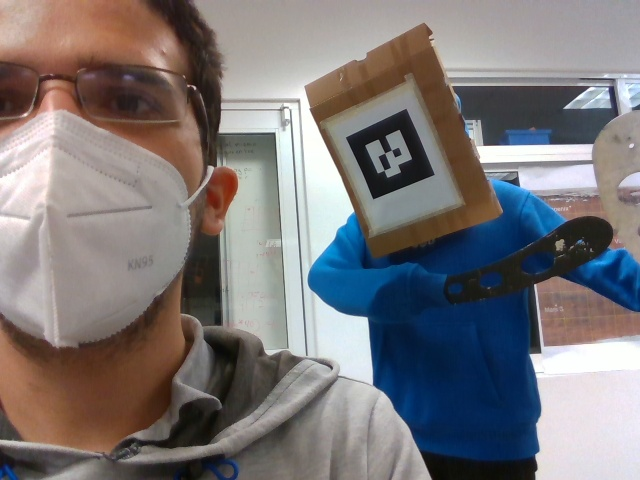ar3: (344, 108, 437, 201)
